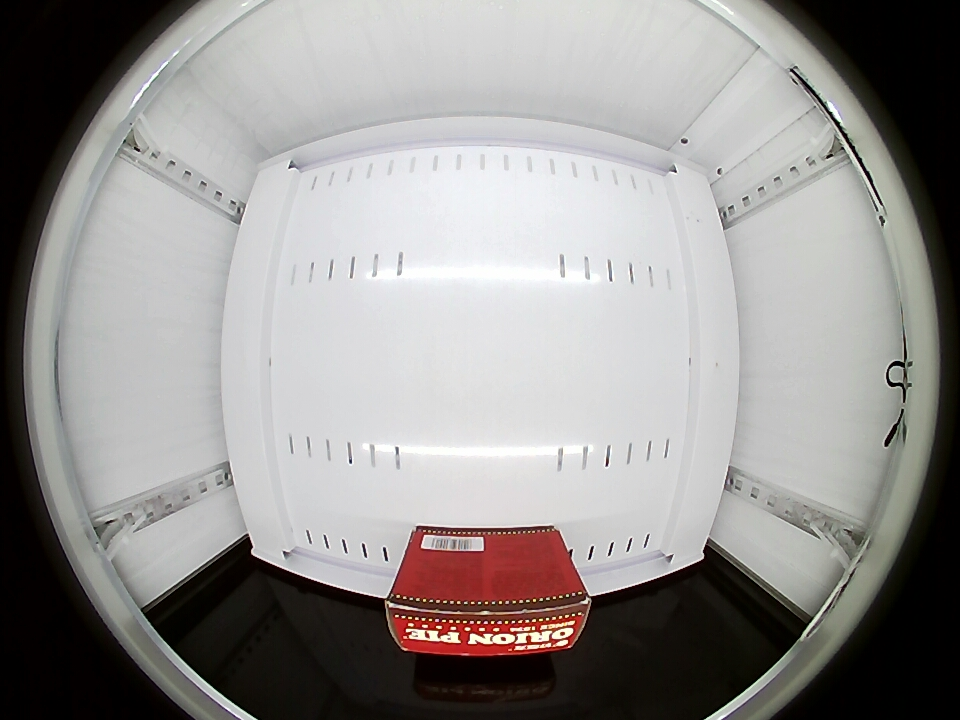haoliyou: (384, 530, 592, 658)
